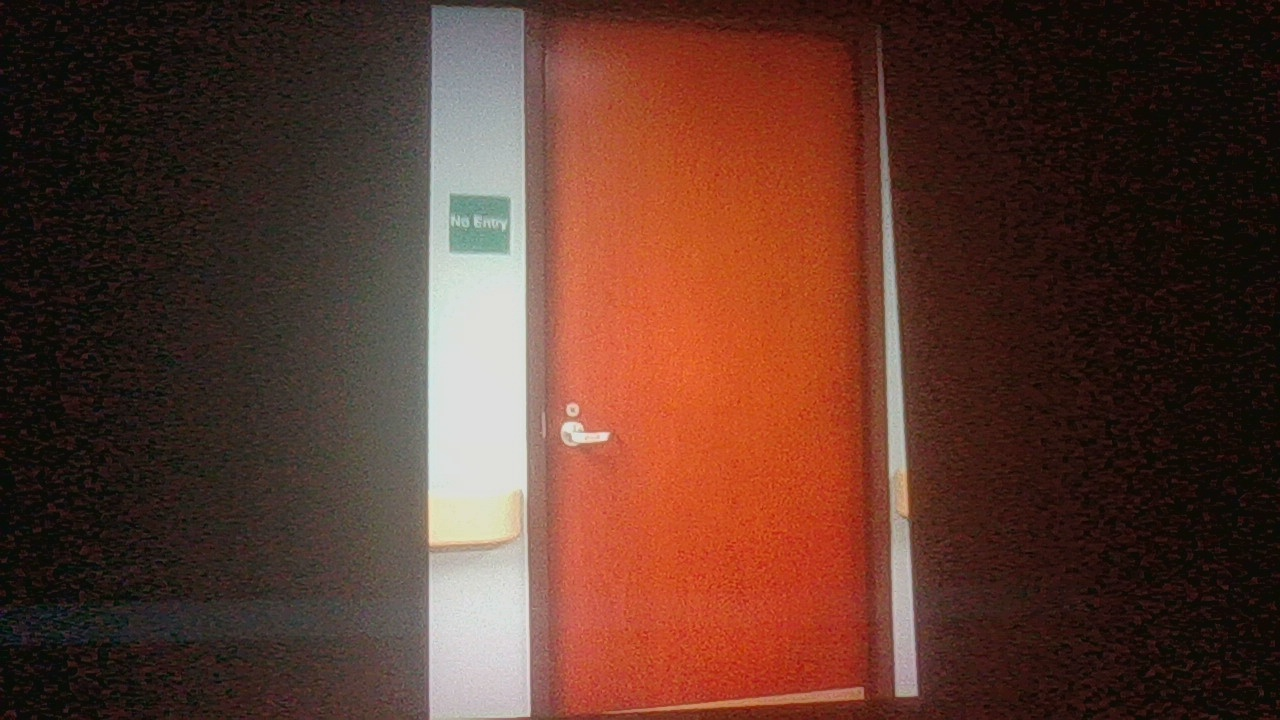no_entry: (443, 192, 518, 259)
